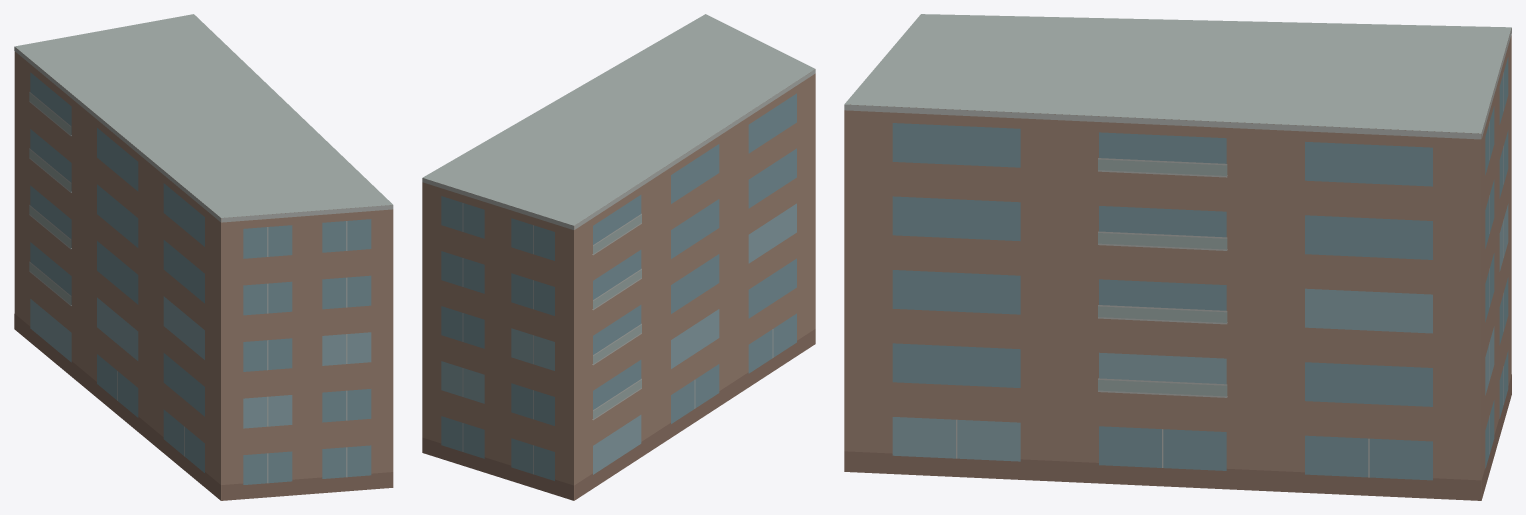
Rendered from survey-upis-32922886.glb.
3 renders of one model, left to right at view 1: azimuth 30°, elevation 25°; view 2: azimuth 150°, elevation 25°; view 3: azimuth 270°, elevation 25°, orthographic. The views are drawn at different scales.
Visible parts, largest first — view 1: survey-upis-32922886.tmp; view 2: survey-upis-32922886.tmp; view 3: survey-upis-32922886.tmp.
Part boxes in pixels (left/top/right/bottom): survey-upis-32922886.tmp: left=14, top=14, right=393, bottom=500; survey-upis-32922886.tmp: left=422, top=14, right=815, bottom=500; survey-upis-32922886.tmp: left=844, top=14, right=1511, bottom=500.
Size of the model in its own units: 10.55 by 15.1 by 24.88.
